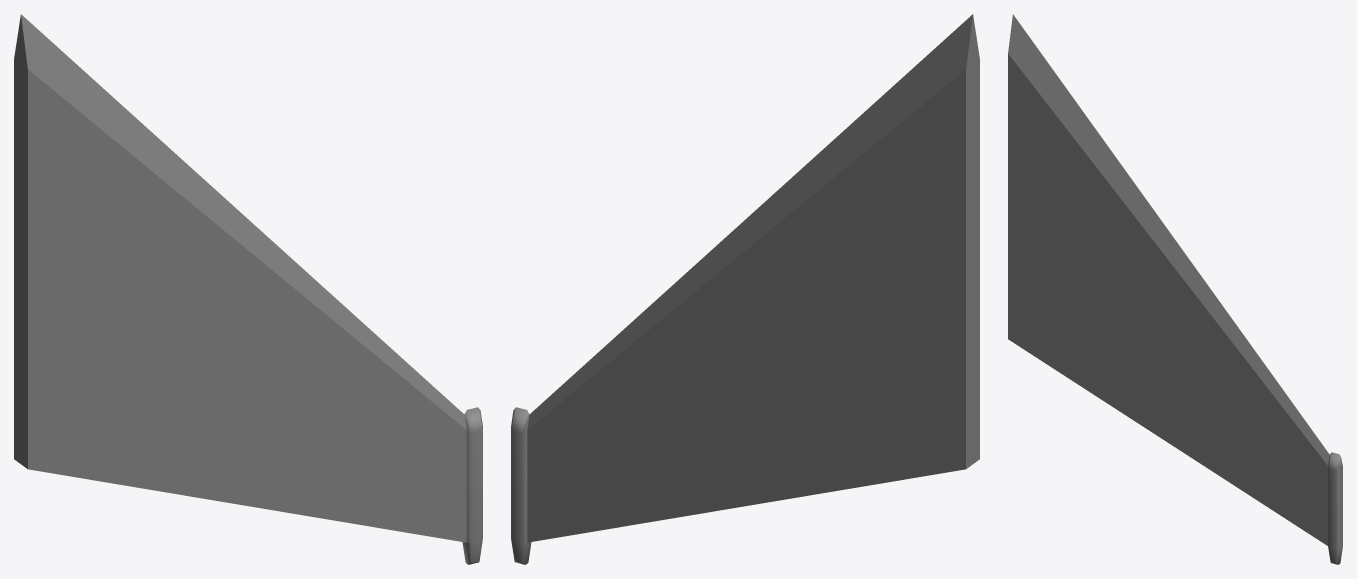
Rendered from Saturn_S1_AdvancedFin.dae.
3 views of the same model, side by side, from view 1: azimuth 30°, elevation 25°; view 2: azimuth 150°, elevation 25°; view 3: azimuth 330°, elevation 25° (orthographic). The views are drawn at different scales.
Visible parts, largest first — view 1: S1_AdvancedFin; view 2: S1_AdvancedFin; view 3: S1_AdvancedFin.
Boxes of the visible parts, x1,y1,x2,y2 form: S1_AdvancedFin: [14, 14, 482, 564]; S1_AdvancedFin: [511, 14, 979, 564]; S1_AdvancedFin: [1008, 14, 1342, 564].
Size of the model in its own units: 1.99 by 2.72 by 0.1033.
